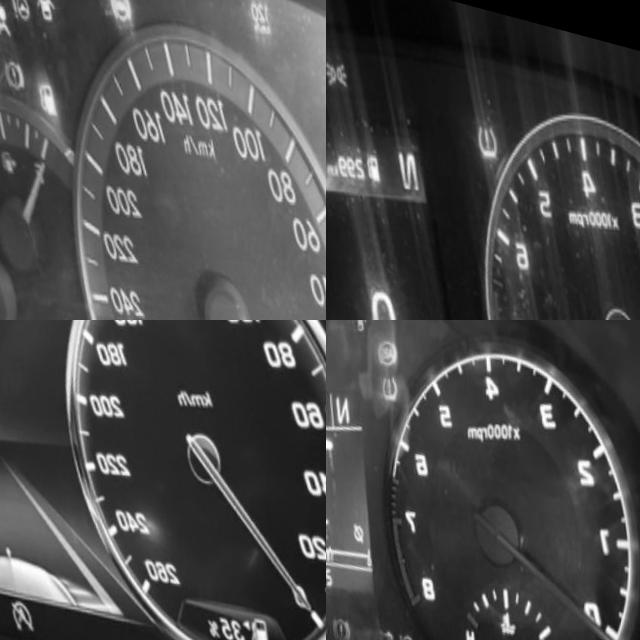Doors: (32, 0, 61, 23)
Electronic Power Steering: (400, 609, 421, 636)
Low fuel level: (35, 70, 62, 116)
